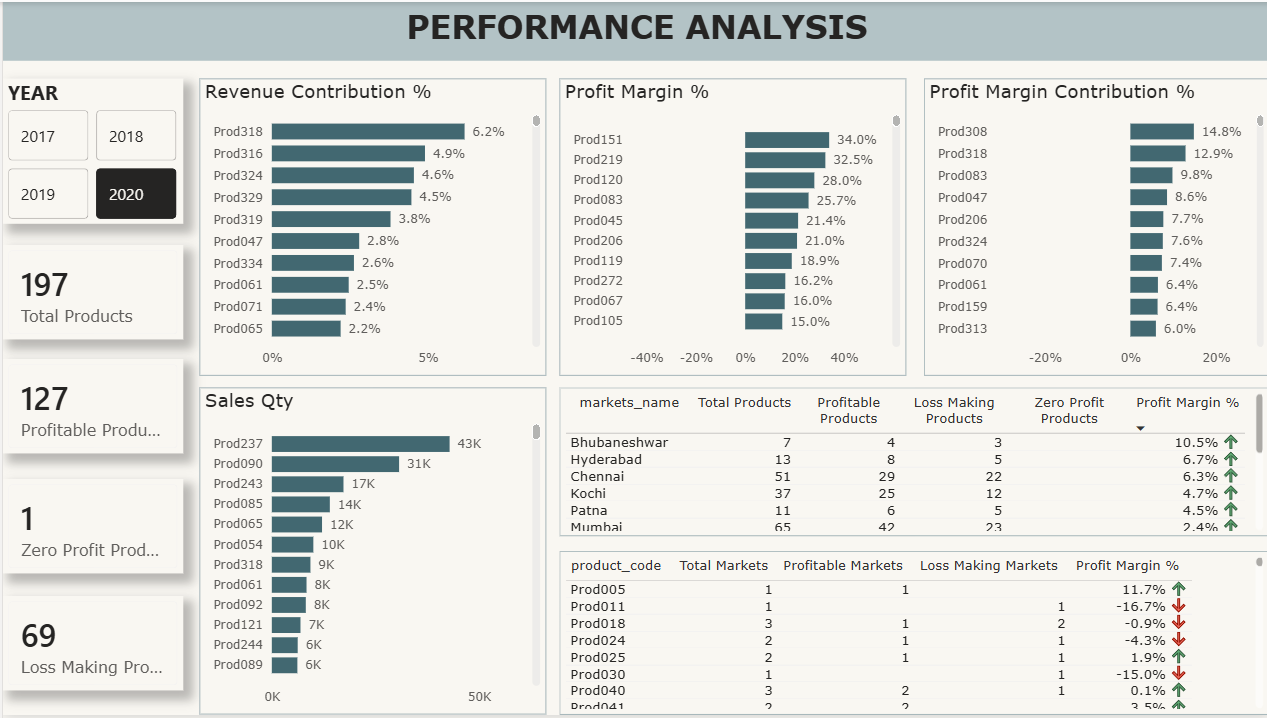

Layout of this report page (visuals, bound fields, positions):
{"tool":"powerbi","page":{"name":"Performance Analysis","canvas":[1280,720],"ordinal":2},"visuals":[{"type":"advancedSlicerVisual","title":"YEAR","fields":{"Values":["sales date.year"]},"box":[0,77.2,181.7,146.9],"z":0},{"type":"cardVisual","fields":{"Data":["Base Measures.Total Products"]},"box":[0,245.3,181.7,95.4],"z":1000},{"type":"cardVisual","fields":{"Data":["Base Measures.Profitable Products"]},"box":[0,360.4,181.7,95.4],"z":2000},{"type":"cardVisual","fields":{"Data":["Base Measures.Zero Profit Products"]},"box":[0,481.5,181.7,95.4],"z":3000},{"type":"cardVisual","fields":{"Data":["Base Measures.Loss Making Products"]},"box":[0,599.6,181.7,95.4],"z":4000},{"type":"textbox","box":[0,0,1279.5,59.1],"z":5000},{"type":"clusteredBarChart","title":"Revenue Contribution %","fields":{"Category":["sales products.product_code"],"Y":["Base Measures.Revenue Contribution %"]},"box":[198.4,77.2,350,300],"z":6000},{"type":"clusteredBarChart","title":"Profit Margin %","fields":{"Y":["Base Measures.Profit Margin %"],"Category":["sales products.product_code"]},"box":[561.8,77.2,350,300],"z":7000},{"type":"clusteredBarChart","title":"Profit Margin Contribution %","fields":{"Category":["sales products.product_code"],"Y":["Base Measures.Profit Margin Contribution %"]},"box":[929.7,77.2,350,300],"z":8000},{"type":"clusteredBarChart","title":"Sales Qty","fields":{"Category":["sales products.product_code"],"Y":["Base Measures.Sales Qty"]},"box":[198.4,389.2,350,330.1],"z":9000},{"type":"tableEx","fields":{"Values":["sales markets.markets_name","Base Measures.Total Products","Base Measures.Profitable Products","Base Measures.Loss Making Products","Base Measures.Zero Profit Products","Base Measures.Profit Margin %"]},"box":[561.8,389.2,717.7,150],"z":10000},{"type":"tableEx","fields":{"Values":["sales products.product_code","Base Measures.Total Markets","Base Measures.Profitable Markets","Base Measures.Loss Making Markets","Base Measures.Profit Margin %"]},"box":[561.8,554.2,717.7,165],"z":11000}]}

Visuals, with their boxes in screenshot pixels (x1, y1, x2, y2), scaled from the page's 1280x720 canvas onto the 1267x718 screenshot:
"YEAR" advancedSlicerVisual: detection(0, 77, 180, 223)
cardVisual - Base Measures.Total Products: detection(0, 245, 180, 340)
cardVisual - Base Measures.Profitable Products: detection(0, 359, 180, 455)
cardVisual - Base Measures.Zero Profit Products: detection(0, 480, 180, 575)
cardVisual - Base Measures.Loss Making Products: detection(0, 598, 180, 693)
textbox: detection(0, 0, 1266, 59)
"Revenue Contribution %" clusteredBarChart: detection(196, 77, 543, 376)
"Profit Margin %" clusteredBarChart: detection(556, 77, 903, 376)
"Profit Margin Contribution %" clusteredBarChart: detection(920, 77, 1266, 376)
"Sales Qty" clusteredBarChart: detection(196, 388, 543, 717)
tableEx - sales markets.markets_name x Base Measures.Total Products: detection(556, 388, 1266, 538)
tableEx - sales products.product_code x Base Measures.Total Markets: detection(556, 553, 1266, 717)
